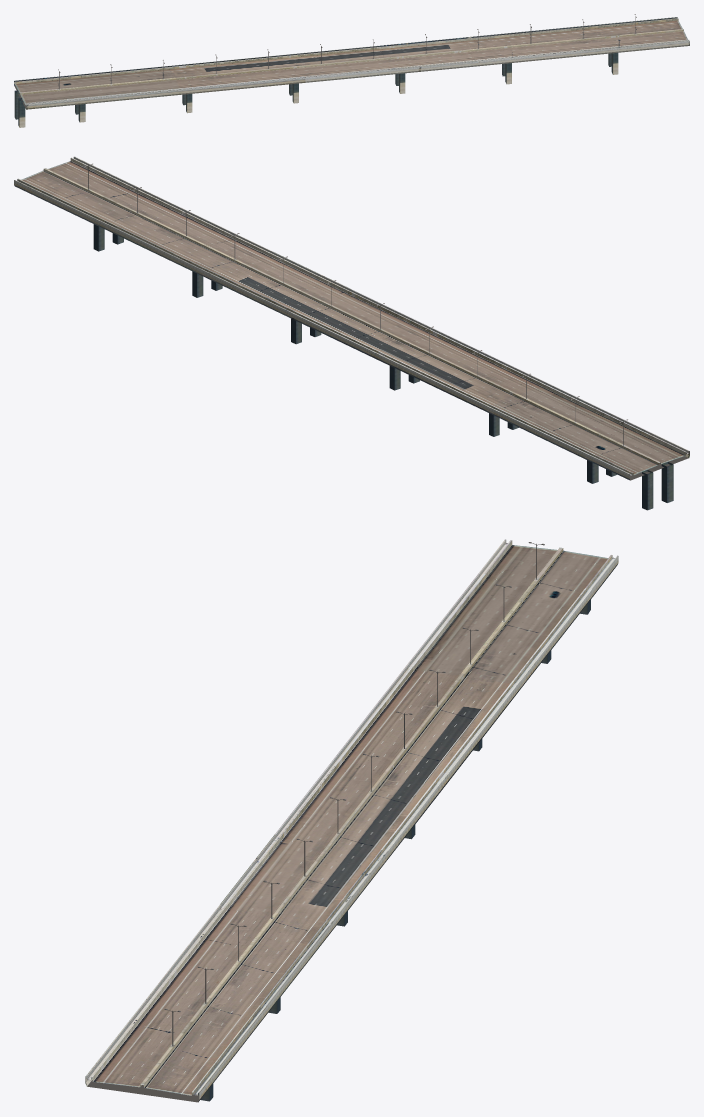
Rendered from roads_context_08.glb.
3 views of the same model, one above another, from view 1: azimuth 30°, elevation 25°; view 2: azimuth 150°, elevation 25°; view 3: azimuth 270°, elevation 25° (orthographic). The views are drawn at different scales.
Visible parts, largest first — view 1: I098661711407063A0.001; view 2: I098661711407063A0.001; view 3: I098661711407063A0.001.
Boxes of the visible parts, x1,y1,x2,y2 form: I098661711407063A0.001: (14,14,689,127); I098661711407063A0.001: (14,156,689,510); I098661711407063A0.001: (85,539,618,1102).
Size of the model in its own units: 396 by 34.38 by 159.
Materials: 2 (2 with a texture image).
